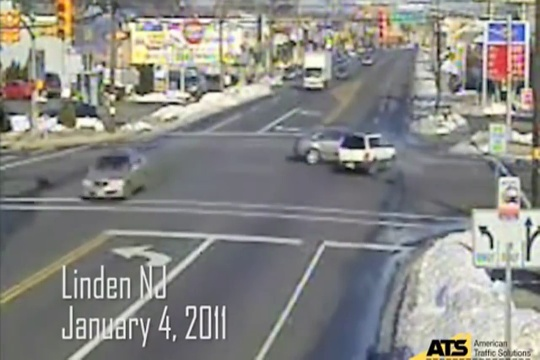car: (78, 148, 150, 208), (341, 135, 394, 181), (287, 125, 341, 166), (301, 51, 328, 93)
